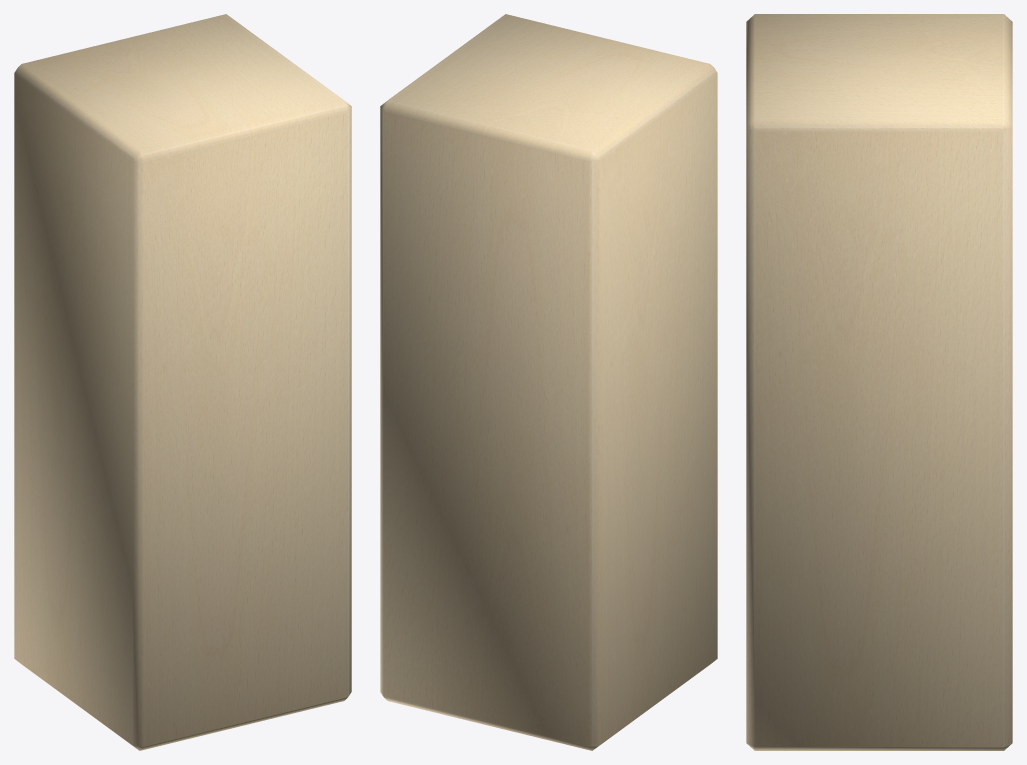
File: blockje.fbx
3 renders of one model, left to right at view 1: azimuth 30°, elevation 25°; view 2: azimuth 150°, elevation 25°; view 3: azimuth 270°, elevation 25°, orthographic. The views are drawn at different scales.
Parts seen in each view (by area): view 1: Cube; view 2: Cube; view 3: Cube.
Part boxes in pixels (box(x1,y1,x2,y2)): Cube: box(14, 14, 351, 750); Cube: box(380, 14, 717, 750); Cube: box(746, 14, 1012, 750).
Size of the model in its own units: 6.18 by 16.18 by 6.18.
Materials: 1 (1 with a texture image).
